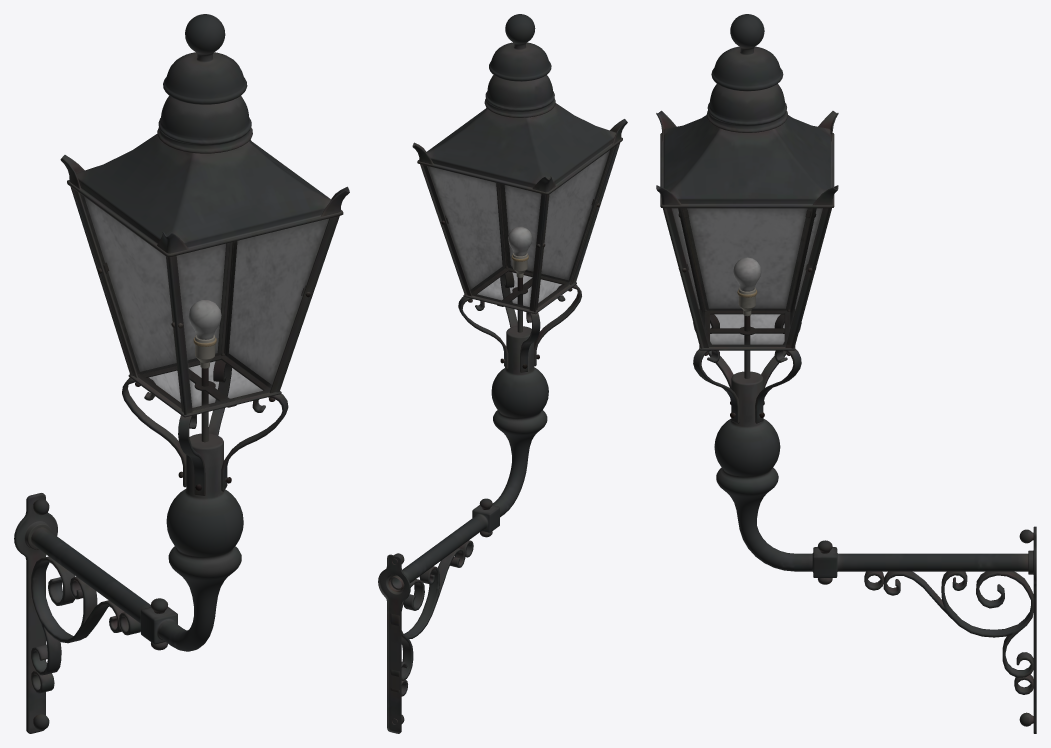
File: street_lamp_02.glb
3 renders of one model, left to right at view 1: azimuth 30°, elevation 25°; view 2: azimuth 150°, elevation 25°; view 3: azimuth 270°, elevation 25°, orthographic. The views are drawn at different scales.
Visible parts, largest first — view 1: street_lamp_02; view 2: street_lamp_02; view 3: street_lamp_02.
Part boxes in pixels (bbox=[...]): street_lamp_02: bbox=[14, 14, 349, 733]; street_lamp_02: bbox=[378, 14, 627, 733]; street_lamp_02: bbox=[656, 14, 1036, 733].
Size of the model in its own units: 0.3865 by 1.68 by 0.8068.
3 materials, 3 textured.
